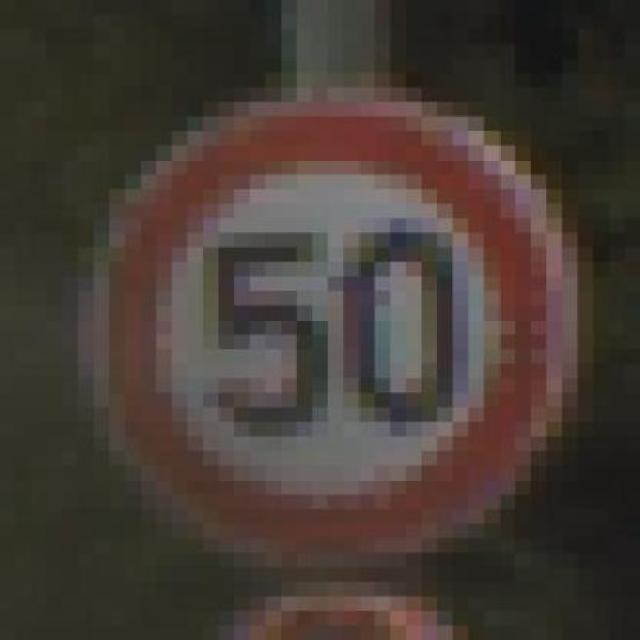Speed limit 50: (103, 93, 572, 564)
